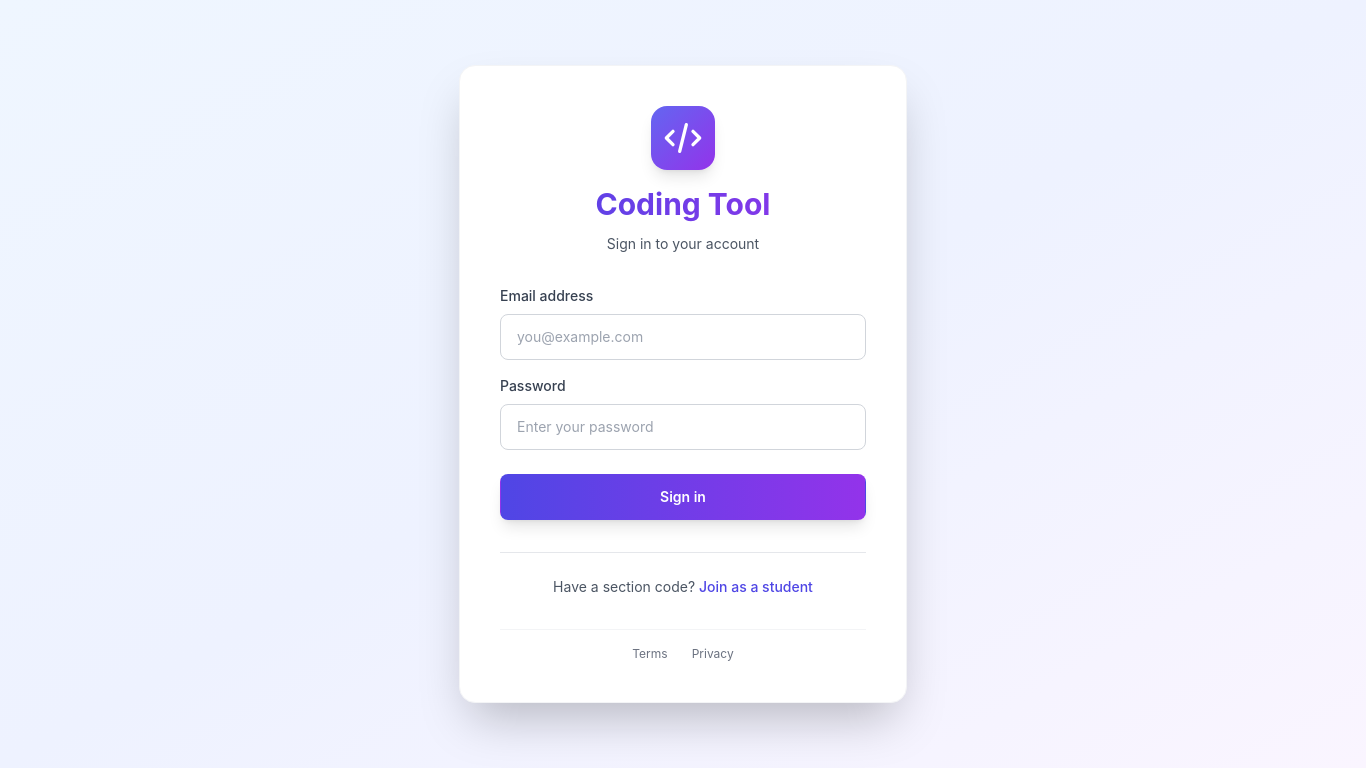
Scenario: SignInPage › Form Validation › shows error when email is empty
Click the button "Sign in": (683, 497) [500,474,866,520]
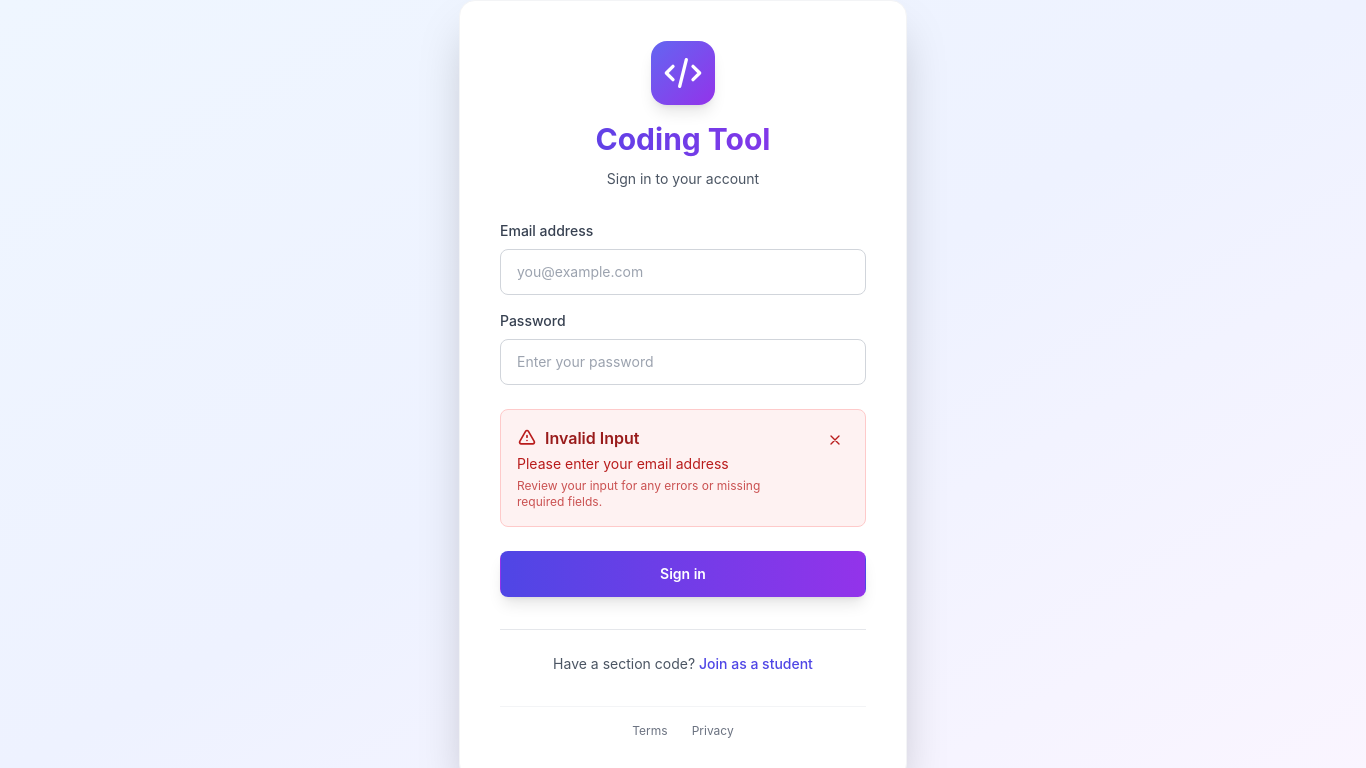
Check: the message is shown, box [500,409,866,527]
Check: the message shows "Please enter your email address", box [517,455,729,472]
